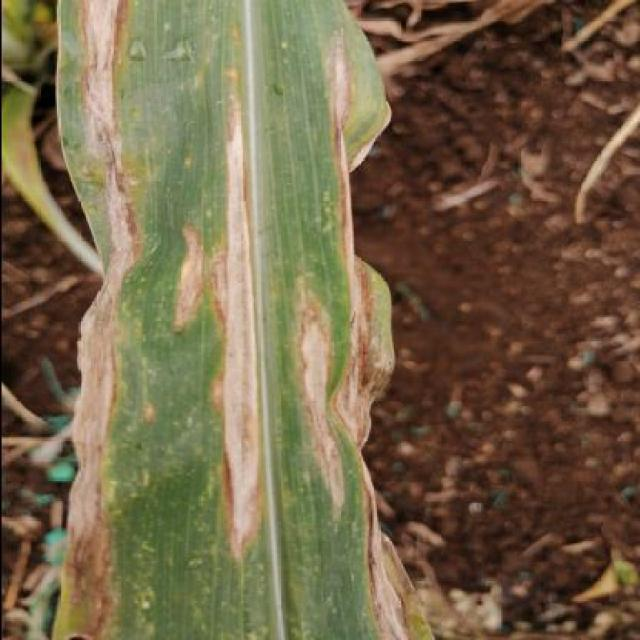Corn_Leaf_Blight: (57, 0, 394, 640)
